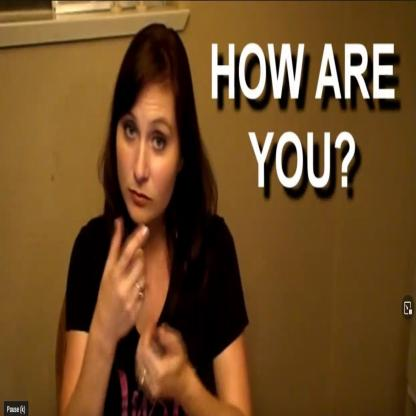HowAreYou: (103, 215, 199, 408)
